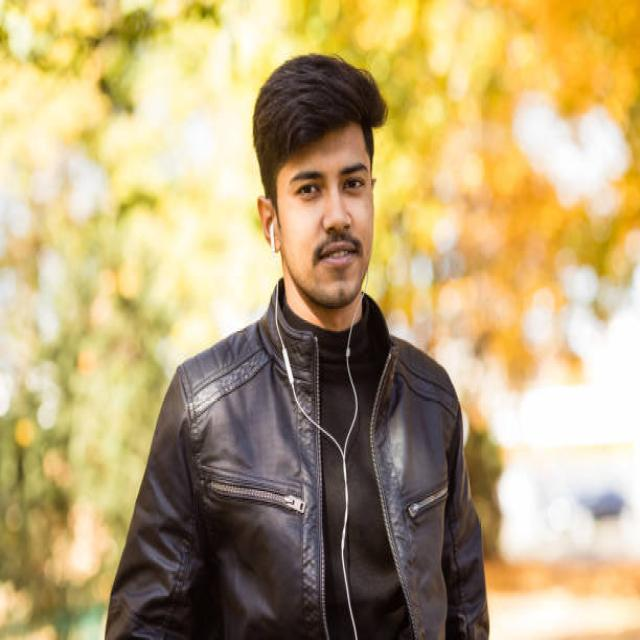Earphone: (267, 217, 370, 640)
